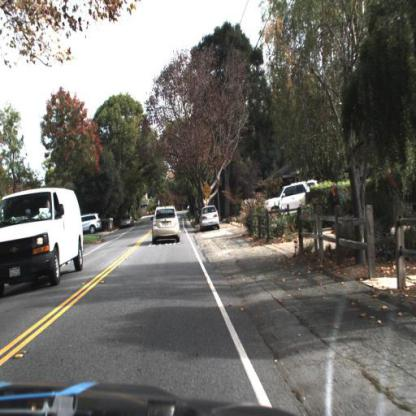car: (1, 189, 87, 293), (266, 176, 315, 221), (151, 205, 181, 245), (200, 206, 222, 233), (81, 214, 101, 233)
